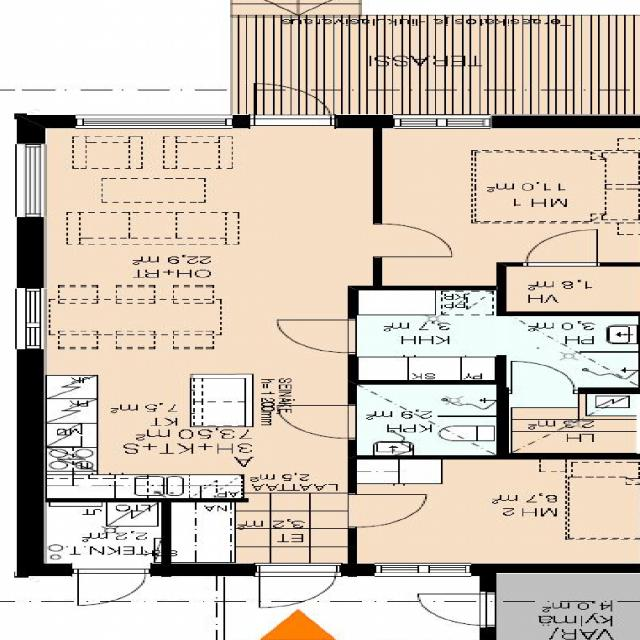door: (258, 563, 336, 612), (254, 81, 328, 128), (76, 563, 144, 607), (302, 320, 382, 353), (277, 415, 356, 448), (373, 224, 452, 256), (348, 494, 426, 526), (414, 594, 496, 624), (511, 359, 573, 393)
